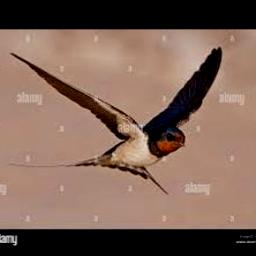Swallow: (9, 47, 223, 195)
